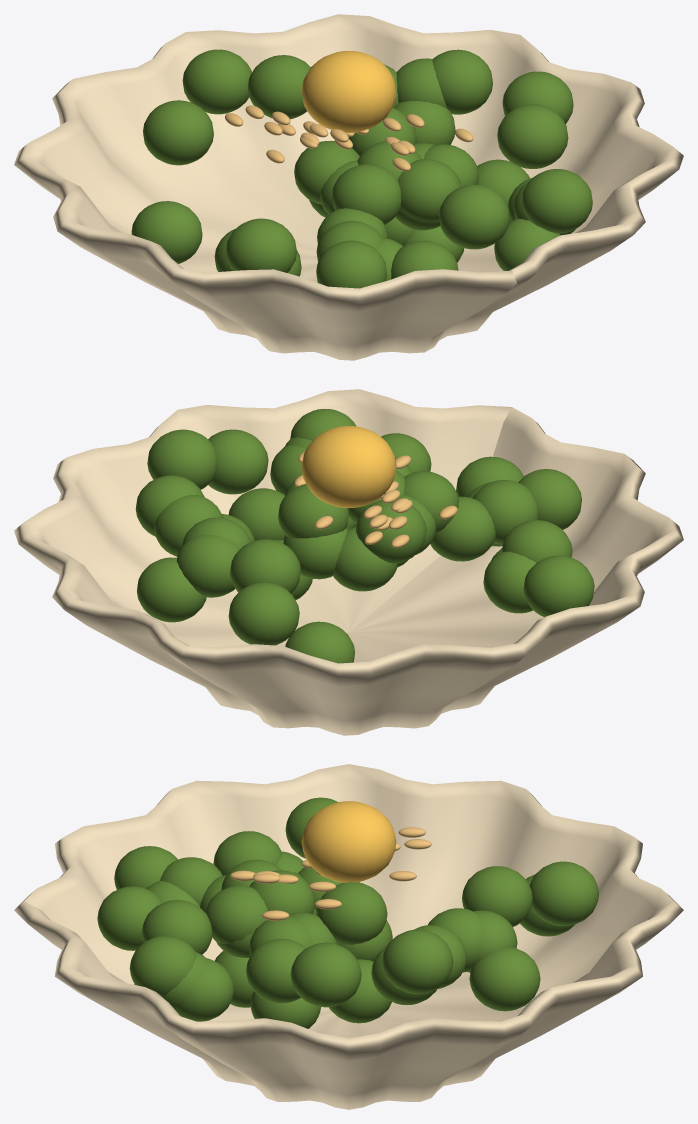
The model's file is 55-peas.glb.
3 views of the same model, one above another, from view 1: azimuth 30°, elevation 25°; view 2: azimuth 150°, elevation 25°; view 3: azimuth 270°, elevation 25° (orthographic).
Visible parts, largest first — view 1: 와사비 완두콩 무침; view 2: 와사비 완두콩 무침; view 3: 와사비 완두콩 무침.
Boxes of the visible parts, box(x1,y1,x2,y2) form: 와사비 완두콩 무침: box(14, 14, 683, 360); 와사비 완두콩 무침: box(14, 389, 683, 735); 와사비 완두콩 무침: box(14, 764, 683, 1109).
Size of the model in its own units: 1.7 by 0.67 by 1.7.
